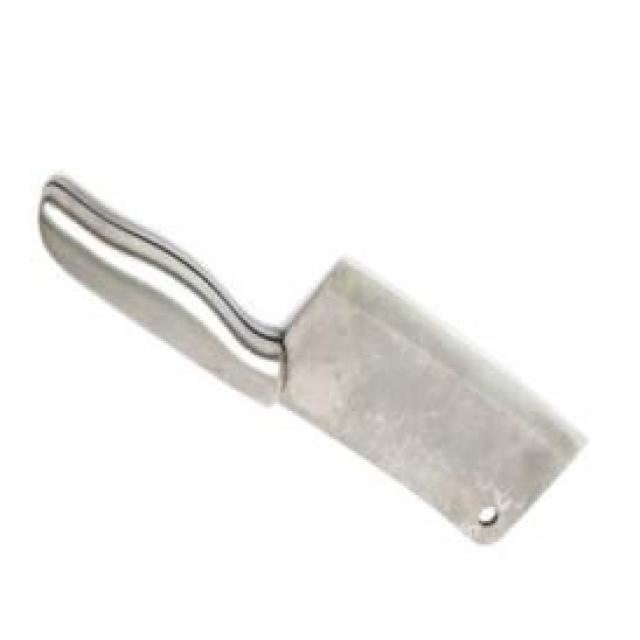knife: (38, 146, 594, 556)
